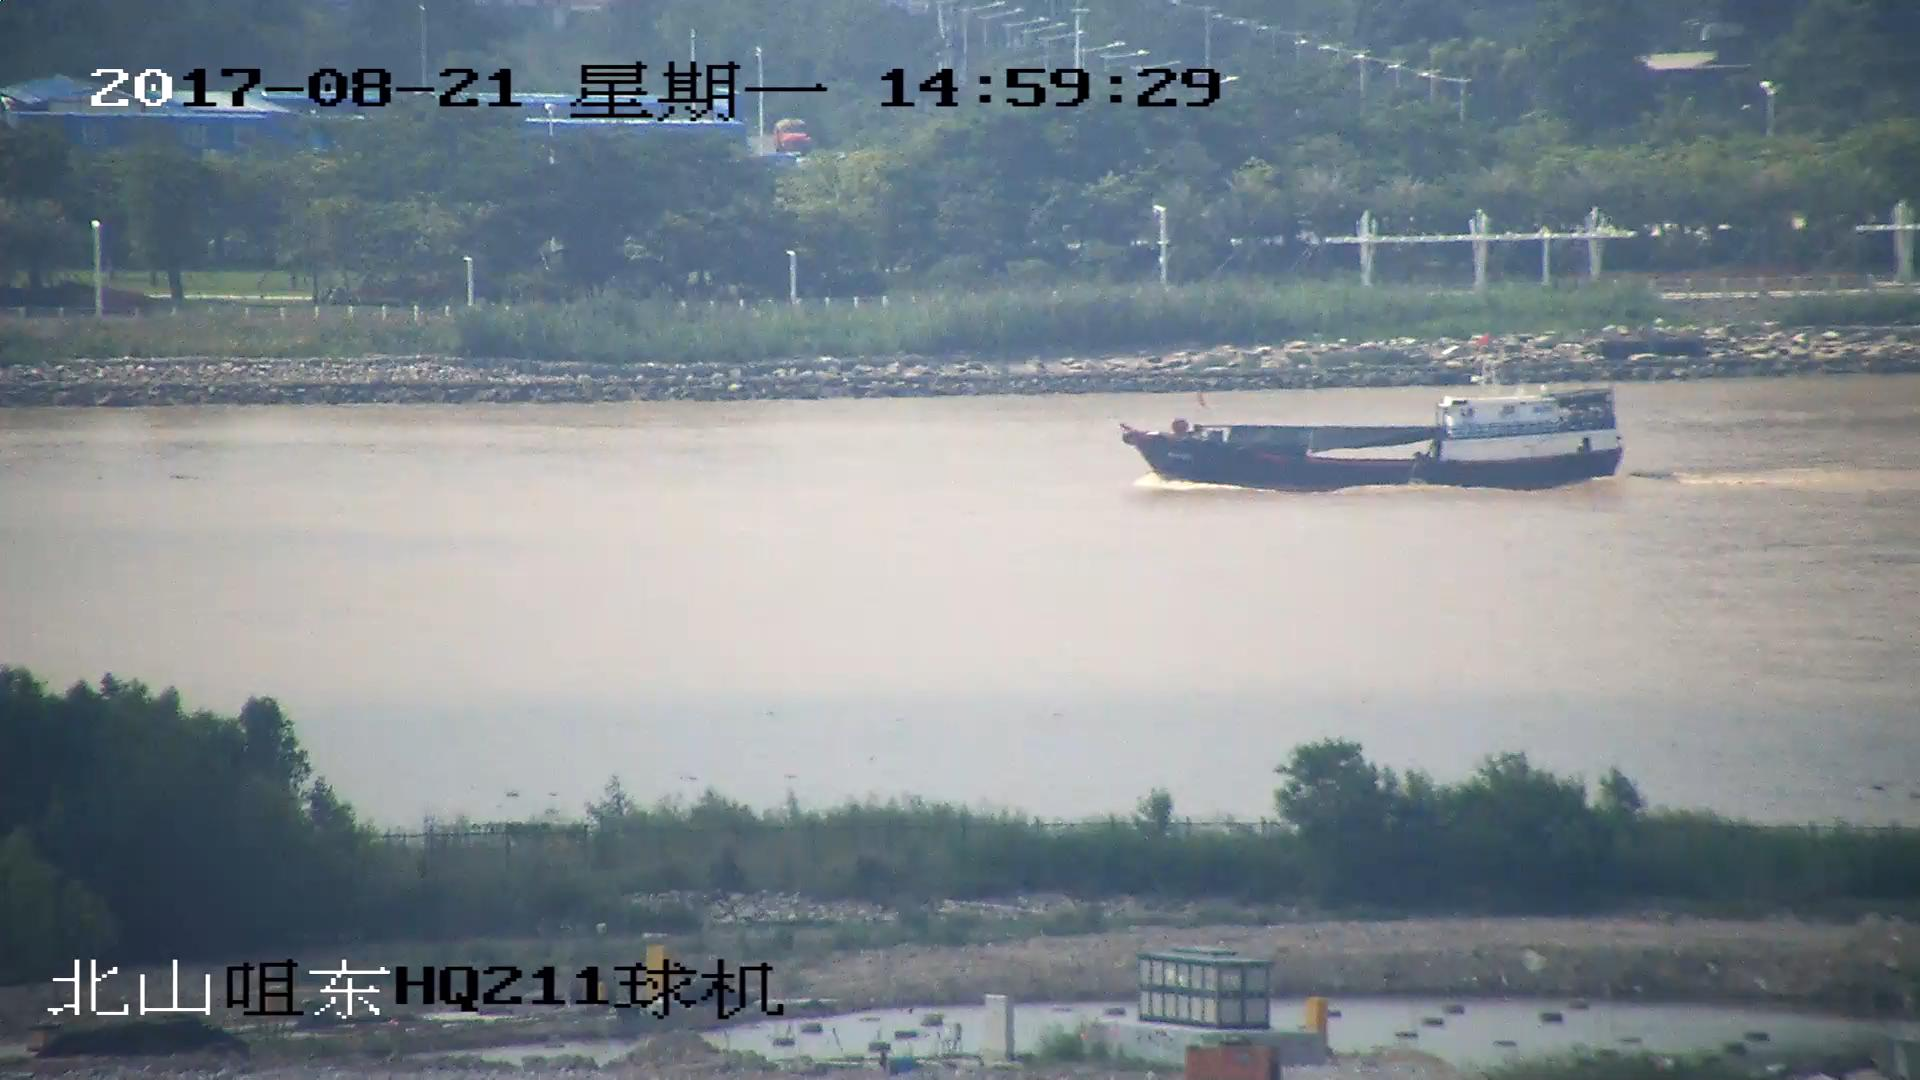fishing boat: (1118, 341, 1628, 496)
